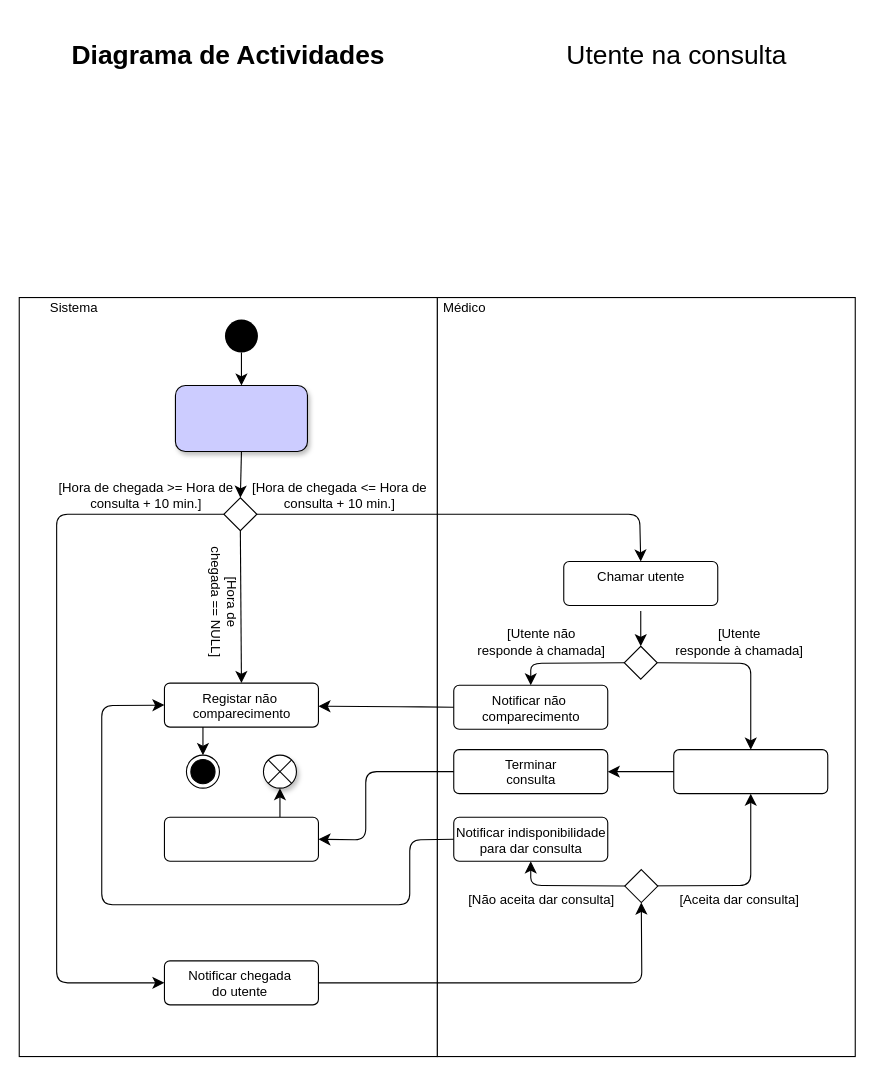
This 875x1076 diagram has some shape labels left out. Here are the shapes that lost their labels. From the top down, the centre of each, then its label:
At point (242, 419): "*Registar presença do utente".
At point (750, 771): "Dar consulta".
At point (240, 838): "Solicitar emissão de factura".
